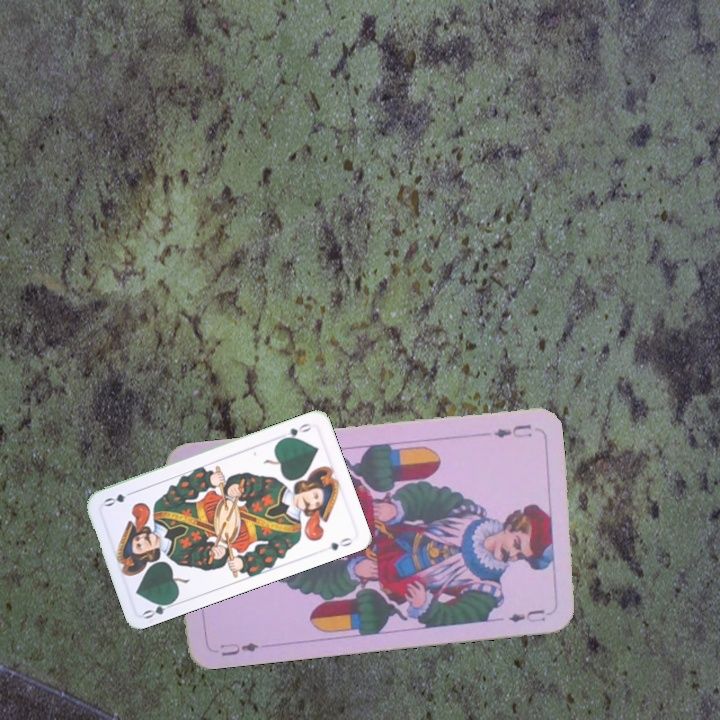EU: (216, 638, 261, 659), (490, 420, 535, 441)
GO: (139, 596, 179, 622), (277, 419, 314, 443)
